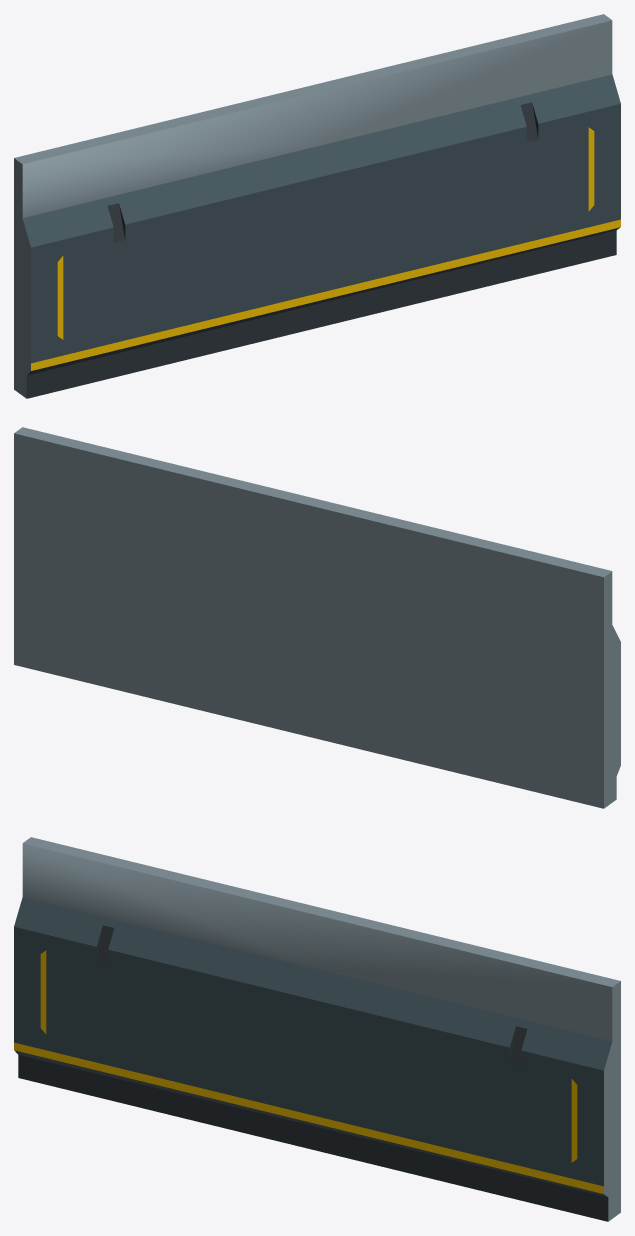
Rendered from Wall_type_C_039.fbx.
The picture shows the model from 3 angles, top to bottom: view 1: azimuth 30°, elevation 25°; view 2: azimuth 150°, elevation 25°; view 3: azimuth 330°, elevation 25°; orthographic projection.
Parts seen in each view (by area): view 1: Wall_type_C_039; view 2: Wall_type_C_039; view 3: Wall_type_C_039.
Part boxes in pixels (bbox=[...]): Wall_type_C_039: bbox=[14, 14, 620, 398]; Wall_type_C_039: bbox=[14, 427, 620, 808]; Wall_type_C_039: bbox=[14, 837, 620, 1221].
Bounding box in the file's own units: 400 × 20 × 150.
